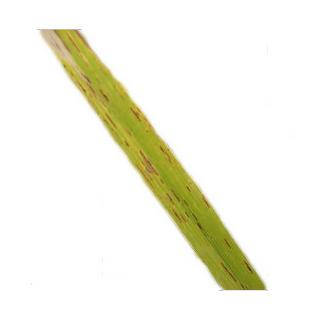Bercak-Cokelat-Sempit: (72, 73, 152, 150), (162, 191, 203, 230), (135, 150, 182, 180), (67, 32, 87, 59), (220, 262, 239, 284), (49, 31, 66, 50), (242, 259, 256, 279), (222, 235, 236, 253), (242, 284, 248, 294)
